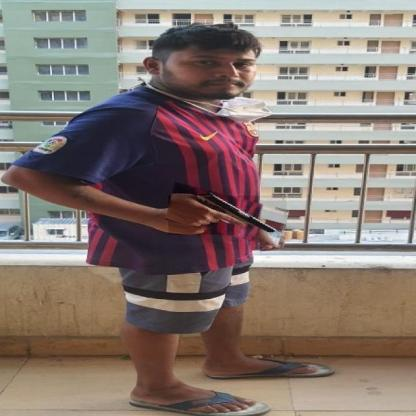handgun: (167, 189, 288, 241)
